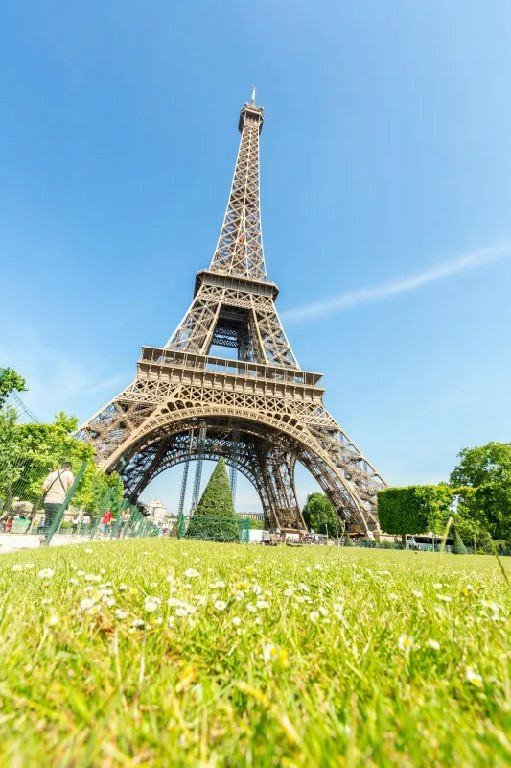Eiffel: (67, 82, 391, 543)
